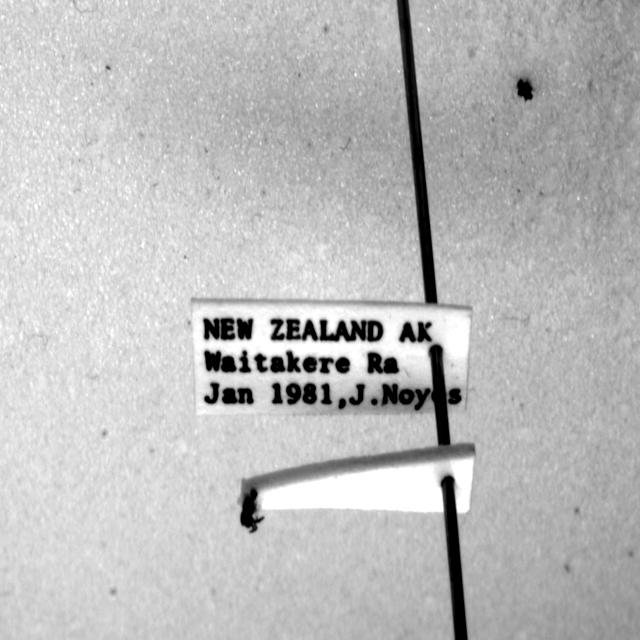typed_label: (191, 300, 471, 414)
